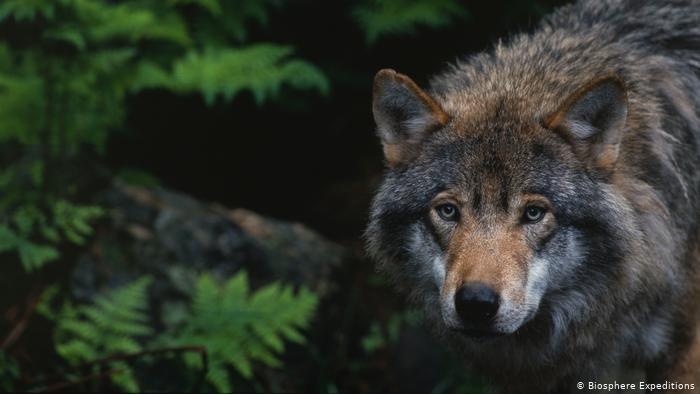fox: (368, 0, 700, 390)
